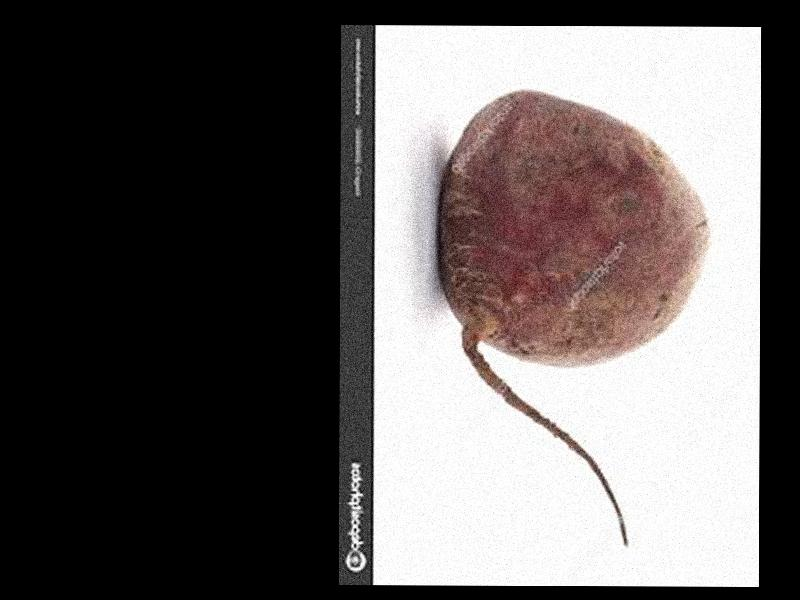Beet: (437, 90, 707, 544)
